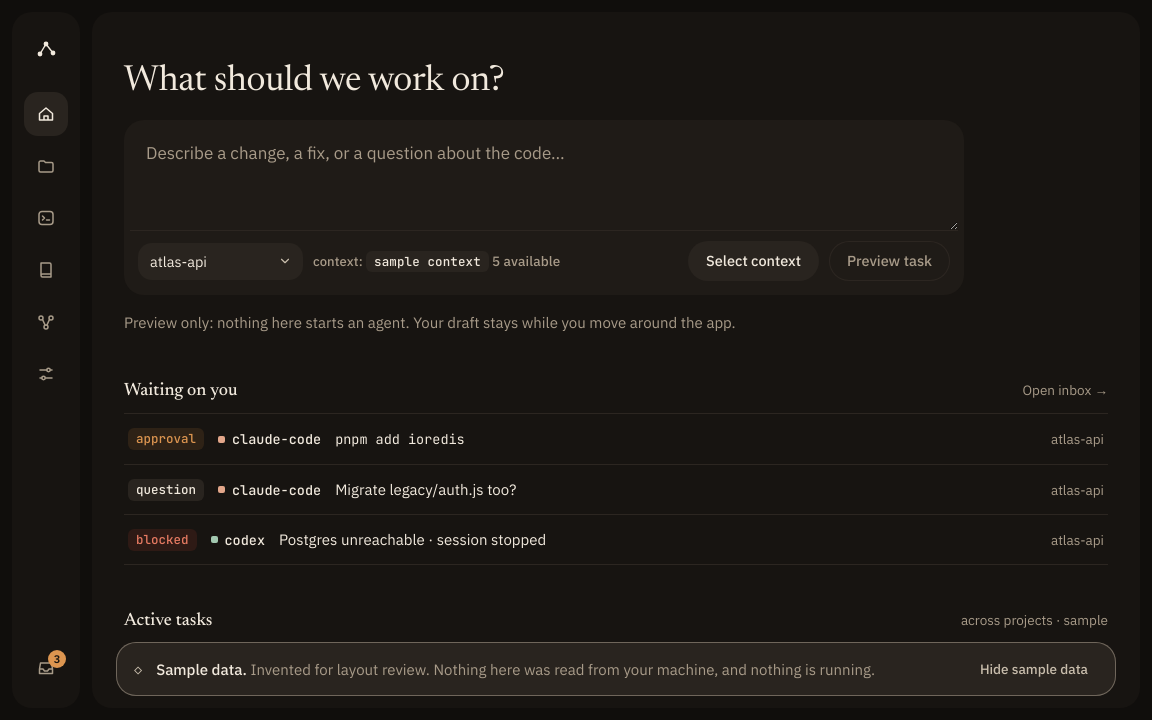
Test case: Sessions list › renders every sample session with state, project and disclosure
Click the link named "Sessions" at [46, 218], box [36, 208, 56, 228]
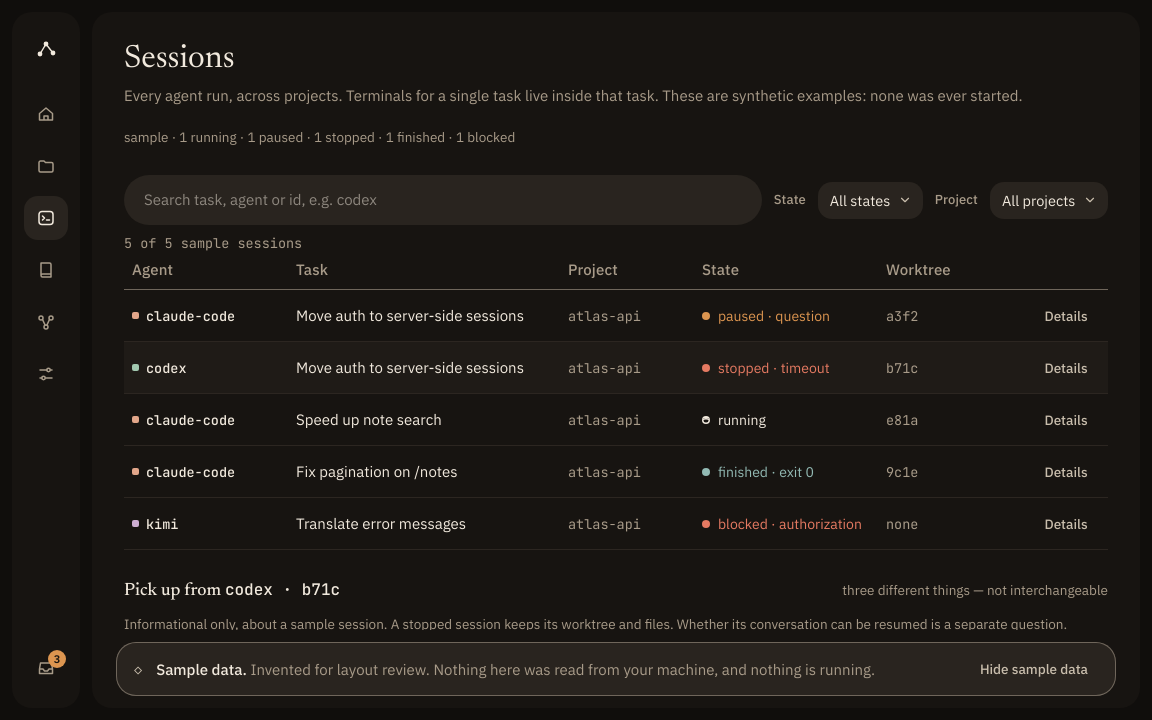
Check: the heading "Sessions" is shown, box [124, 43, 235, 75]
Check: the number of list items is 5, box [124, 290, 1108, 342]; [124, 342, 1108, 394]; [124, 394, 1108, 446]; [124, 446, 1108, 498]; [124, 498, 1108, 550]
Check: the text "blocked · authorization" is shown, box [718, 514, 862, 532]
